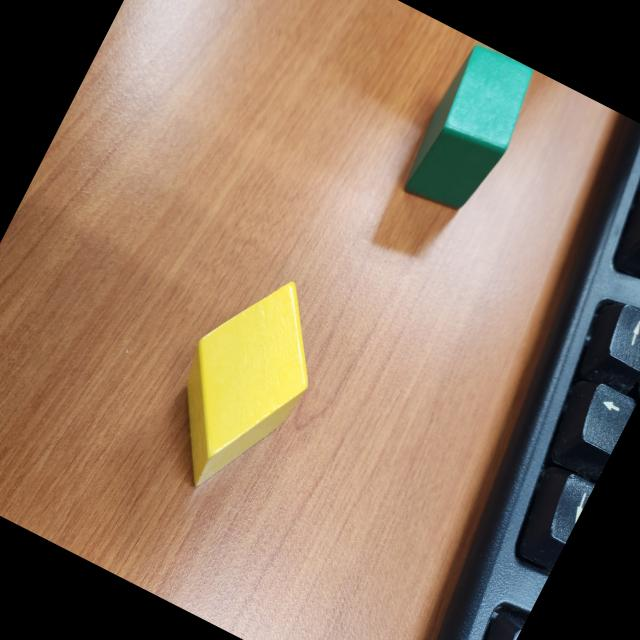green: (395, 39, 544, 224)
yellow: (136, 255, 349, 518)
